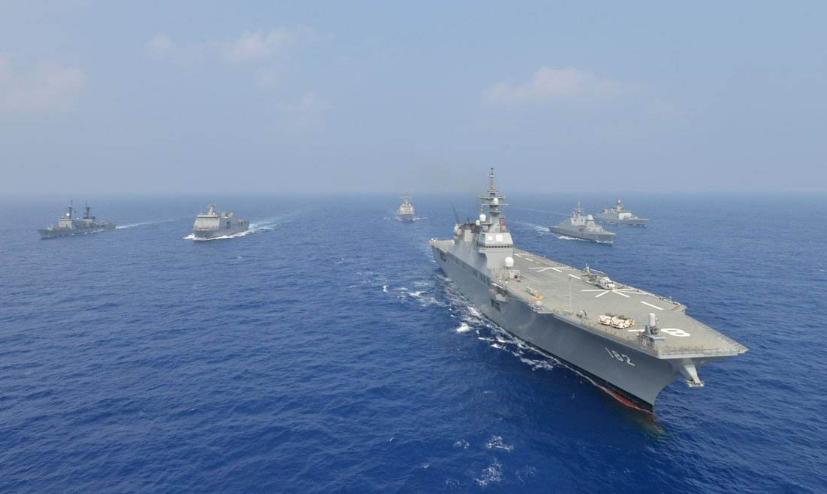warship: (428, 173, 752, 420), (533, 204, 618, 249), (34, 197, 117, 241), (185, 198, 247, 247), (597, 193, 649, 233), (394, 192, 419, 221)
